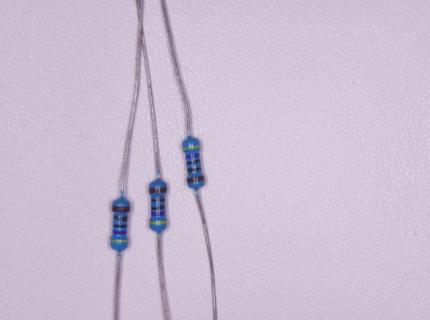Violet band: (186, 153, 200, 159), (113, 230, 127, 235), (152, 211, 165, 216)
Yellow band: (183, 145, 200, 151), (150, 220, 168, 225), (111, 239, 128, 243)
